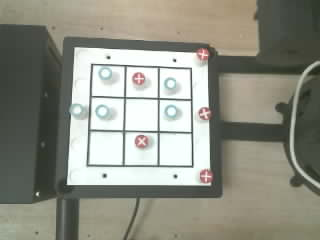blue circle: (69, 103, 84, 117), (95, 104, 109, 118), (165, 105, 177, 118), (98, 67, 111, 79), (164, 77, 176, 89)
board: (67, 47, 212, 185)
cells: (125, 132, 157, 165), (89, 132, 122, 164), (159, 133, 191, 165), (91, 98, 123, 130), (125, 99, 157, 130), (92, 65, 124, 96), (159, 100, 191, 131), (126, 67, 157, 97), (160, 68, 190, 98)
grid: (87, 64, 193, 167)
red cross: (132, 72, 145, 85), (200, 169, 212, 183), (196, 48, 209, 60), (198, 107, 211, 119), (135, 135, 148, 147)
